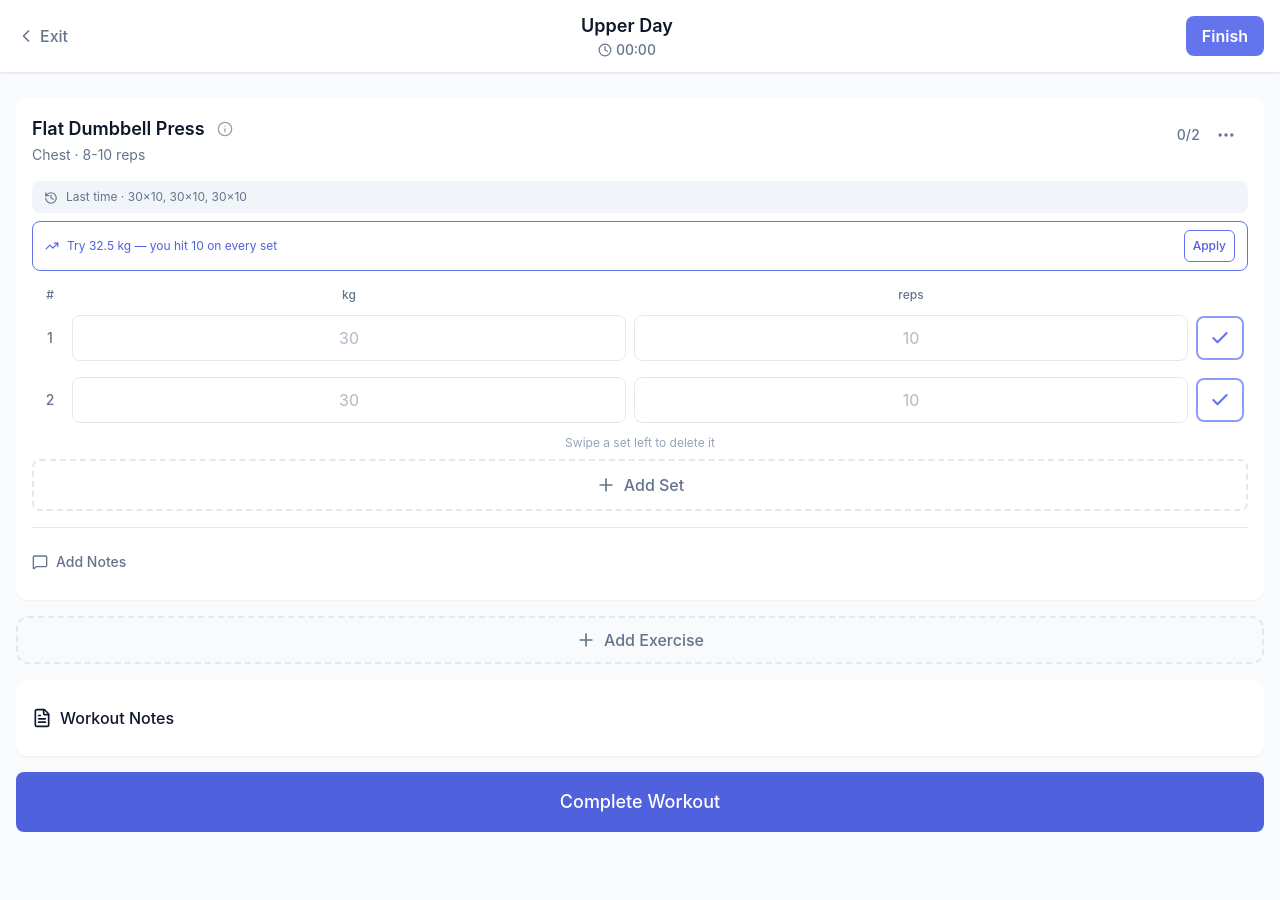
Test case: ActiveWorkoutPage suggestions › accepting an empty set records the suggestion
Check: the text "Last time · 30×10, 30×10, 30×10" is shown, box [66,189,247,205]
Click the button named "Mark set 1 done" at (1220, 338), box [1196,316,1244,360]
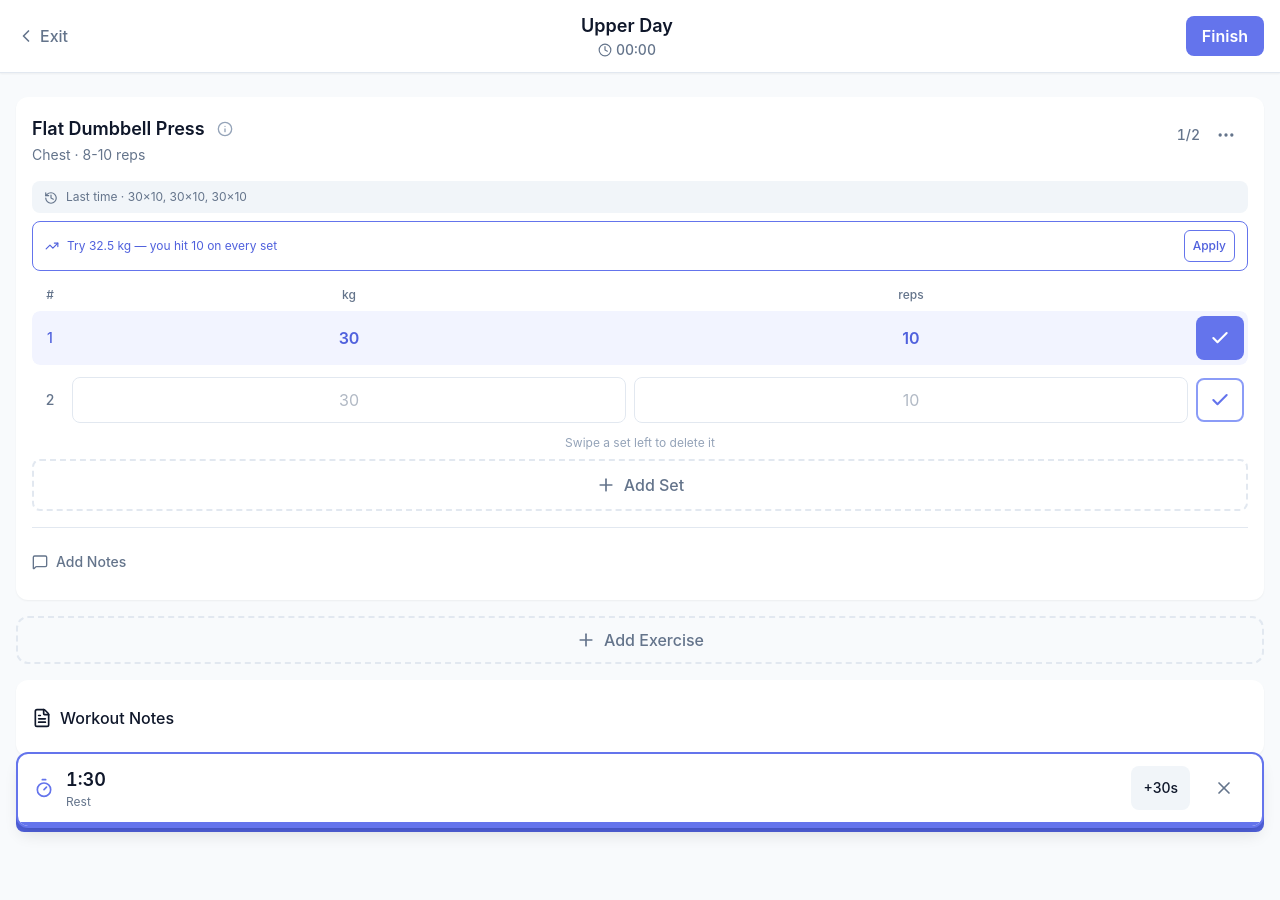
Check: the 1st number field holds "30", box [72,315,626,361]
